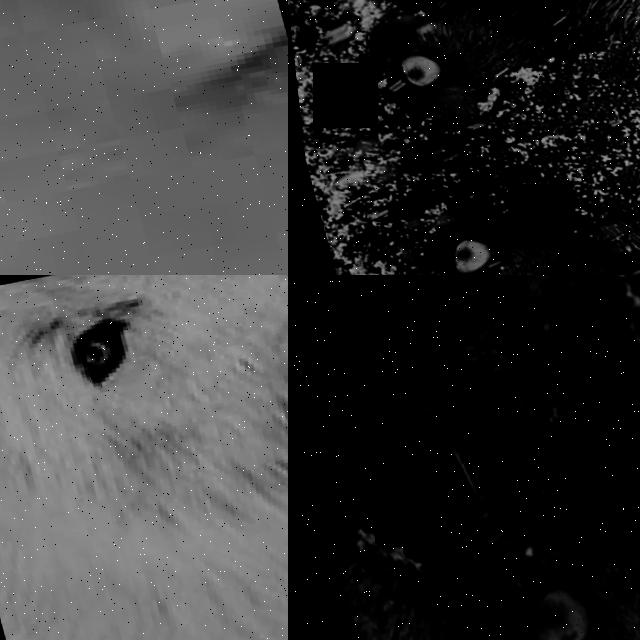dog: (0, 0, 288, 275)
wolf: (288, 275, 640, 640), (0, 275, 288, 640), (288, 0, 640, 275)
